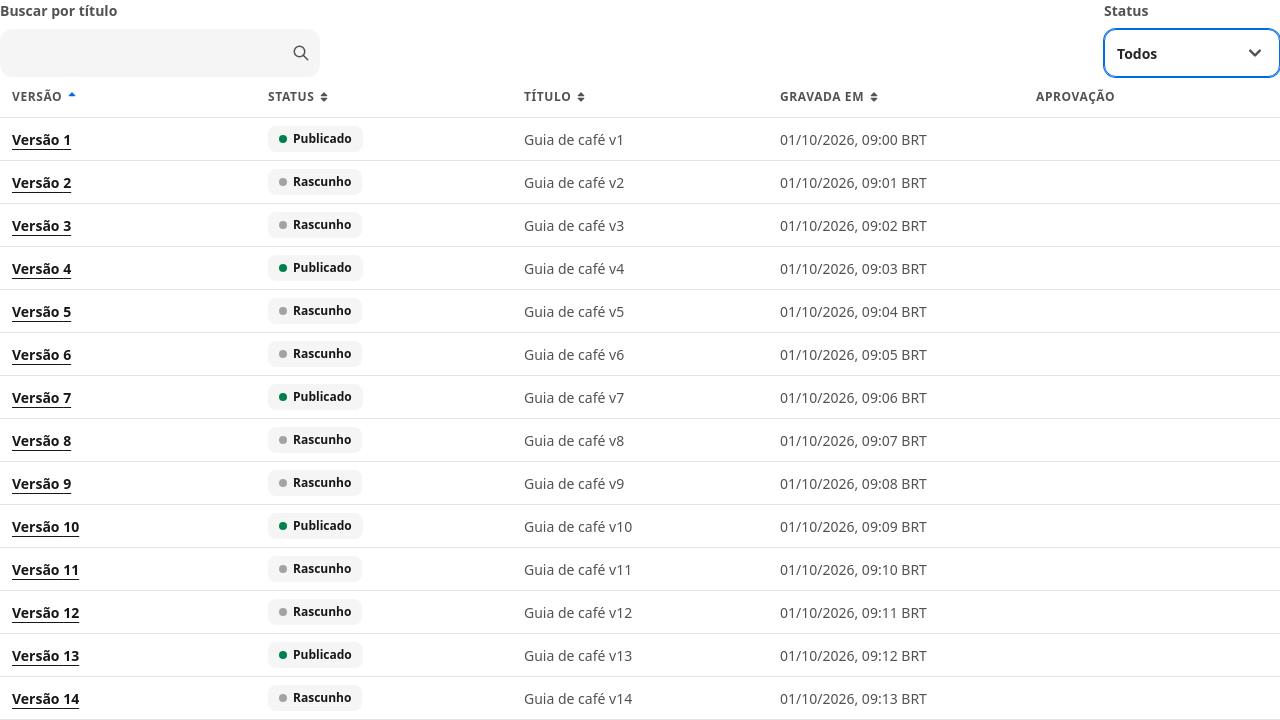
Test: busca, filtro, ordem e paginação (#366) › filtro sem resultado mantém a tabela com a mensagem e 0 resultados
Press Arrowdown
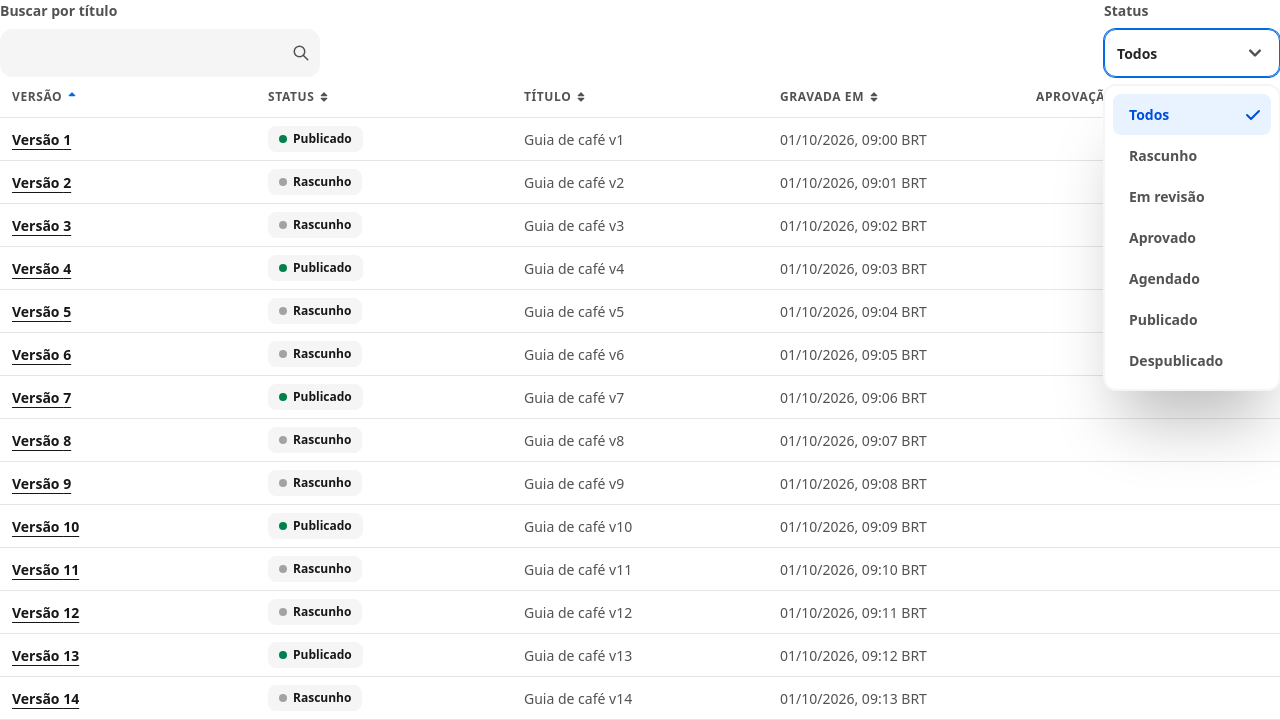
Click the option "Agendado": coordinates (1164, 278) [1129,269,1200,288]
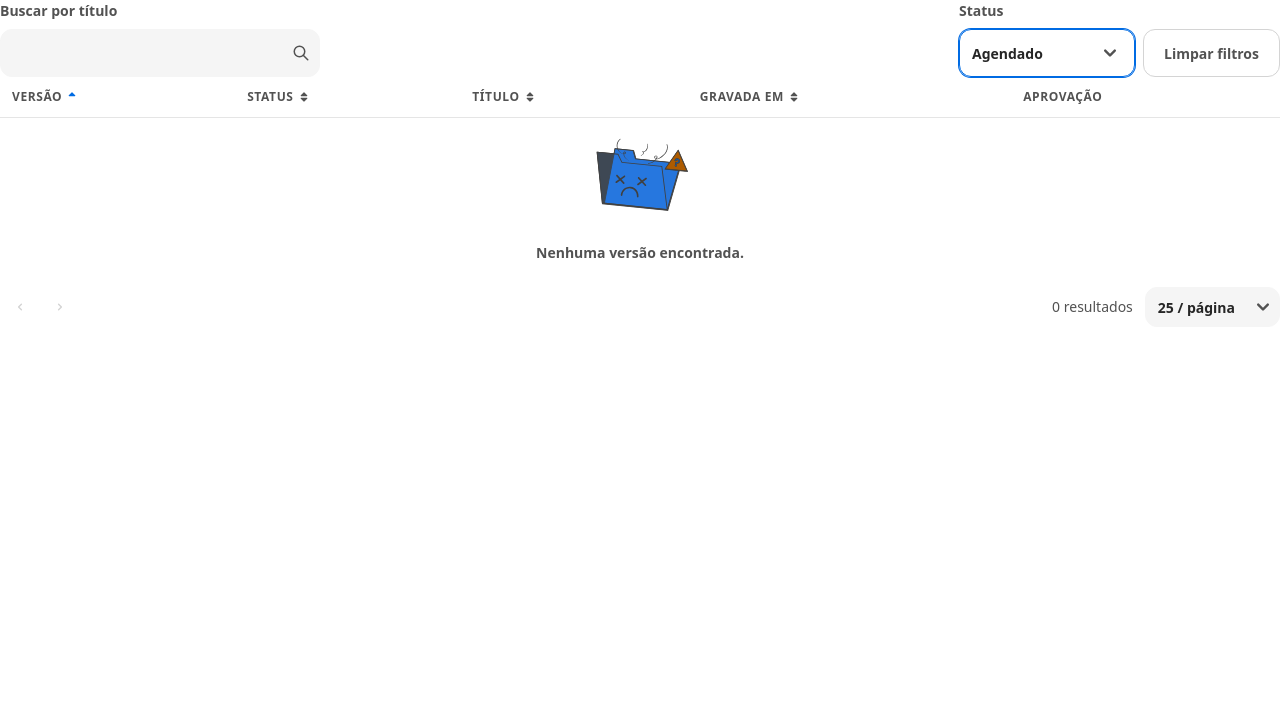
Result: the text "Nenhuma versão encontrada." is shown at [536,242,744,263]
Result: the message reads "0 resultados" at [1052,297,1133,316]
